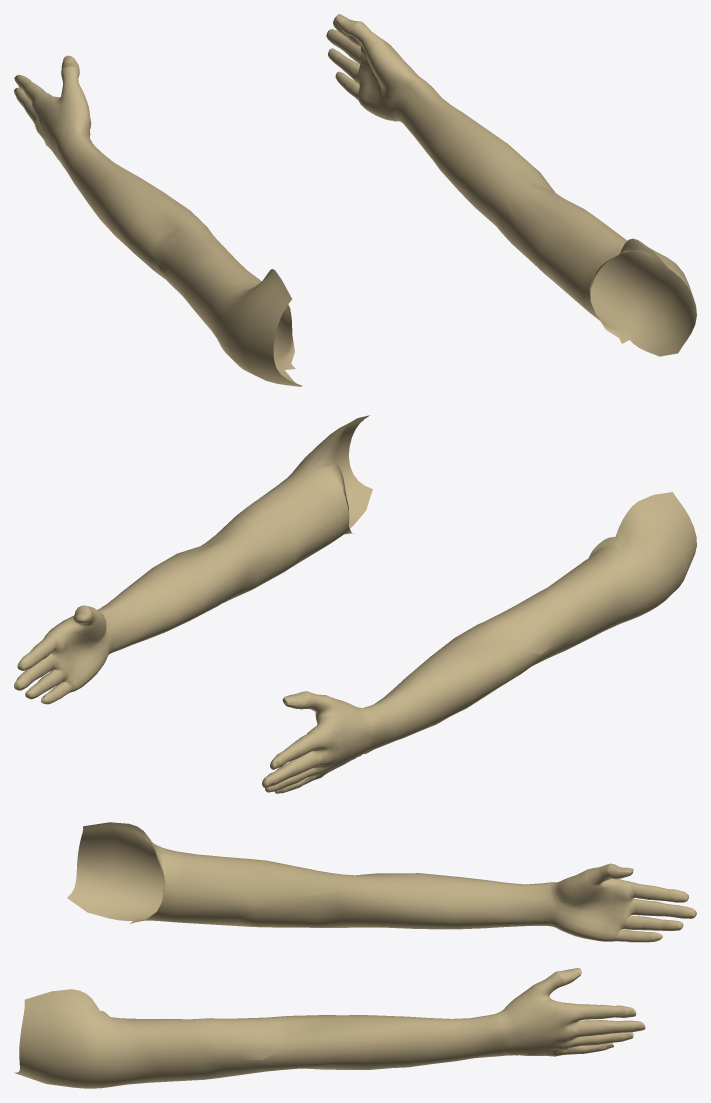
The model's file is hands.fbx.
3 views of the same model, one above another, from view 1: azimuth 30°, elevation 25°; view 2: azimuth 150°, elevation 25°; view 3: azimuth 270°, elevation 25° (orthographic). The views are drawn at different scales.
Parts seen in each view (by area): view 1: polySurface75, polySurface74; view 2: polySurface74, polySurface75; view 3: polySurface74, polySurface75.
Boxes of the visible parts, x1,y1,x2,y2 form: polySurface75: (326, 14, 696, 356); polySurface74: (14, 55, 302, 386); polySurface74: (262, 492, 696, 793); polySurface75: (14, 415, 372, 704); polySurface74: (67, 822, 696, 942); polySurface75: (14, 968, 645, 1088).
Size of the model in its own units: 60.04 by 18.15 by 96.36.
